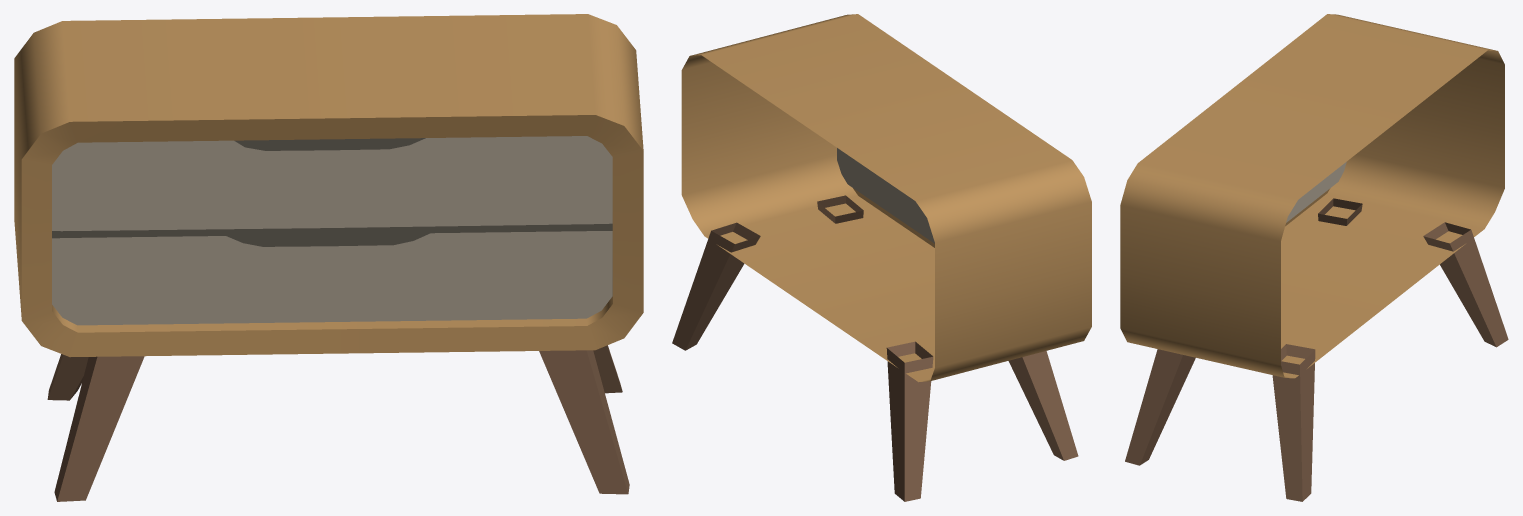
File: MSH_QuestObject_cabinet_14.fbx
The picture shows the model from 3 angles, left to right: view 1: azimuth 30°, elevation 25°; view 2: azimuth 150°, elevation 25°; view 3: azimuth 270°, elevation 25°; orthographic projection. The views are drawn at different scales.
Parts seen in each view (by area): view 1: MSH_QuestObject_cabinet_14; view 2: MSH_QuestObject_cabinet_14; view 3: MSH_QuestObject_cabinet_14.
Part boxes in pixels (x1=…): MSH_QuestObject_cabinet_14: x1=14, y1=14, x2=643, y2=501; MSH_QuestObject_cabinet_14: x1=672, y1=14, x2=1091, y2=501; MSH_QuestObject_cabinet_14: x1=1120, y1=14, x2=1508, y2=501.
Size of the model in its own units: 2.49 by 1.58 by 1.92.
